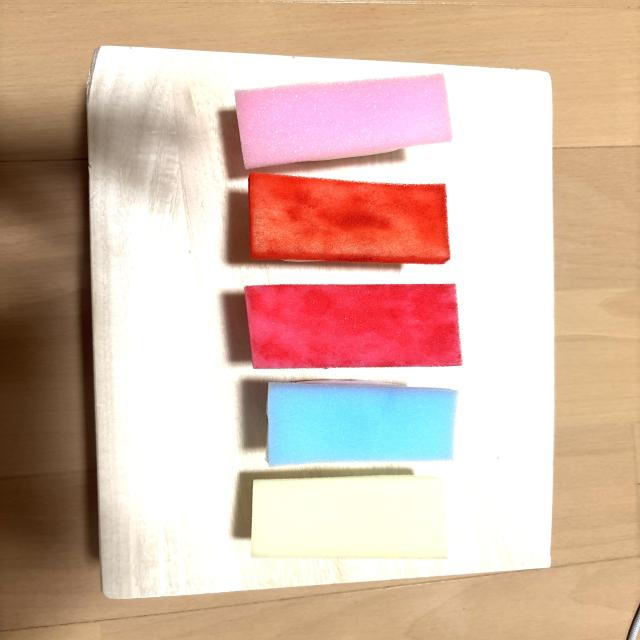ika: (266, 380, 458, 467)
maguro: (246, 284, 462, 368)
salmon: (249, 172, 450, 264)
tai: (235, 74, 452, 169)
tamago: (251, 475, 448, 559)
